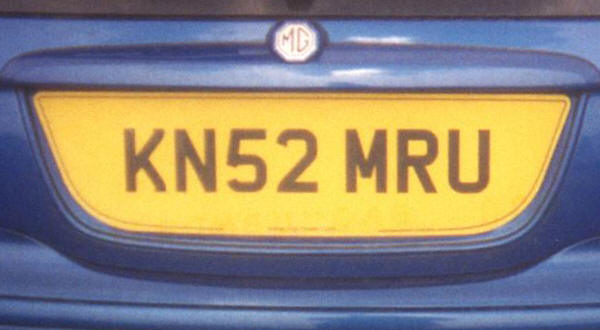license_plate: (31, 92, 574, 239)
